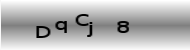8: (116, 20, 130, 34)
C: (74, 13, 90, 27)
D: (34, 25, 52, 40)
j: (86, 22, 94, 38)
q: (53, 20, 69, 34)
